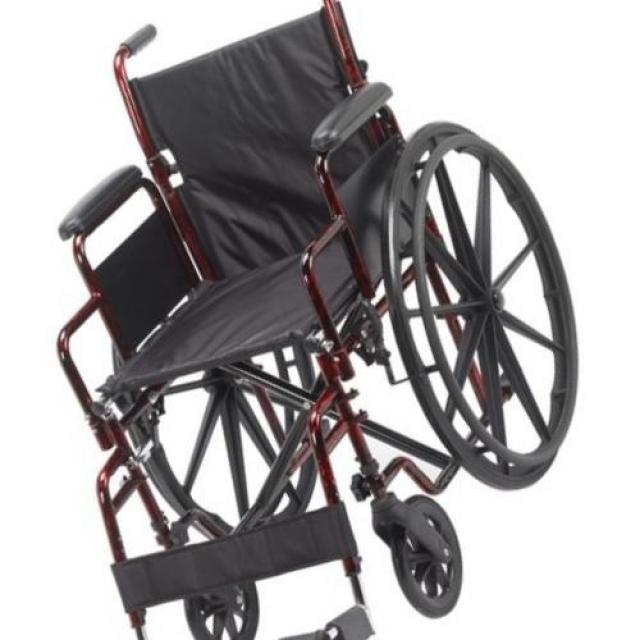wheelchair: (41, 0, 583, 640)
